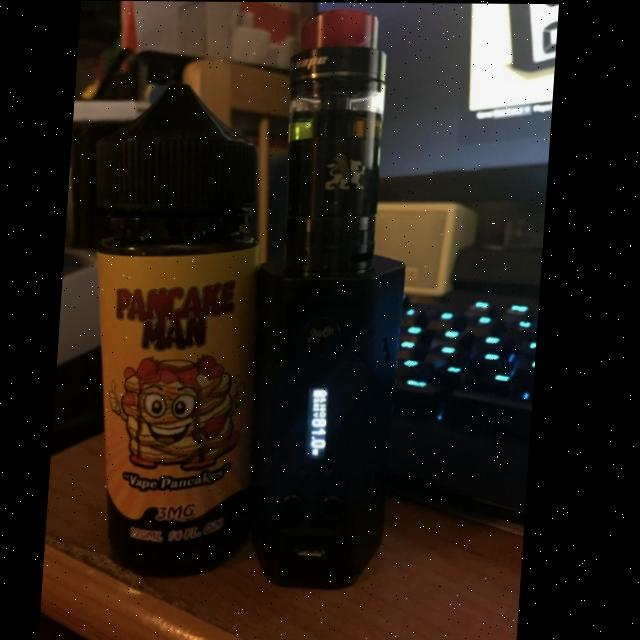vape: (242, 8, 425, 590)
